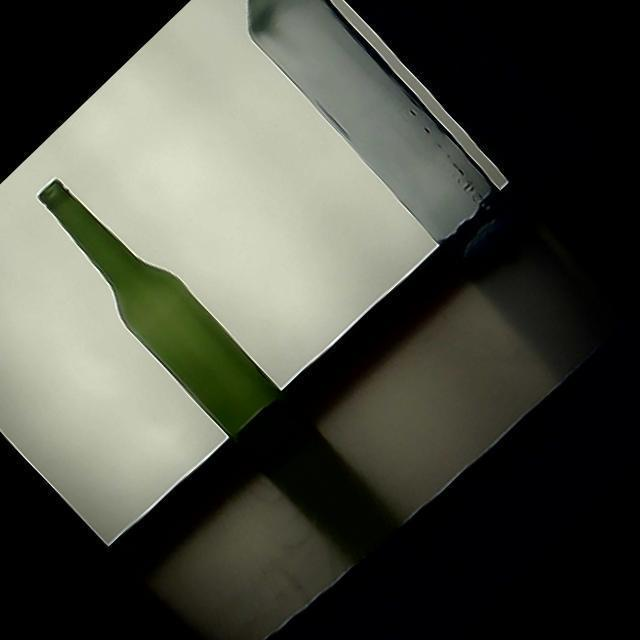Glass: (36, 176, 322, 474), (246, 0, 529, 286)
